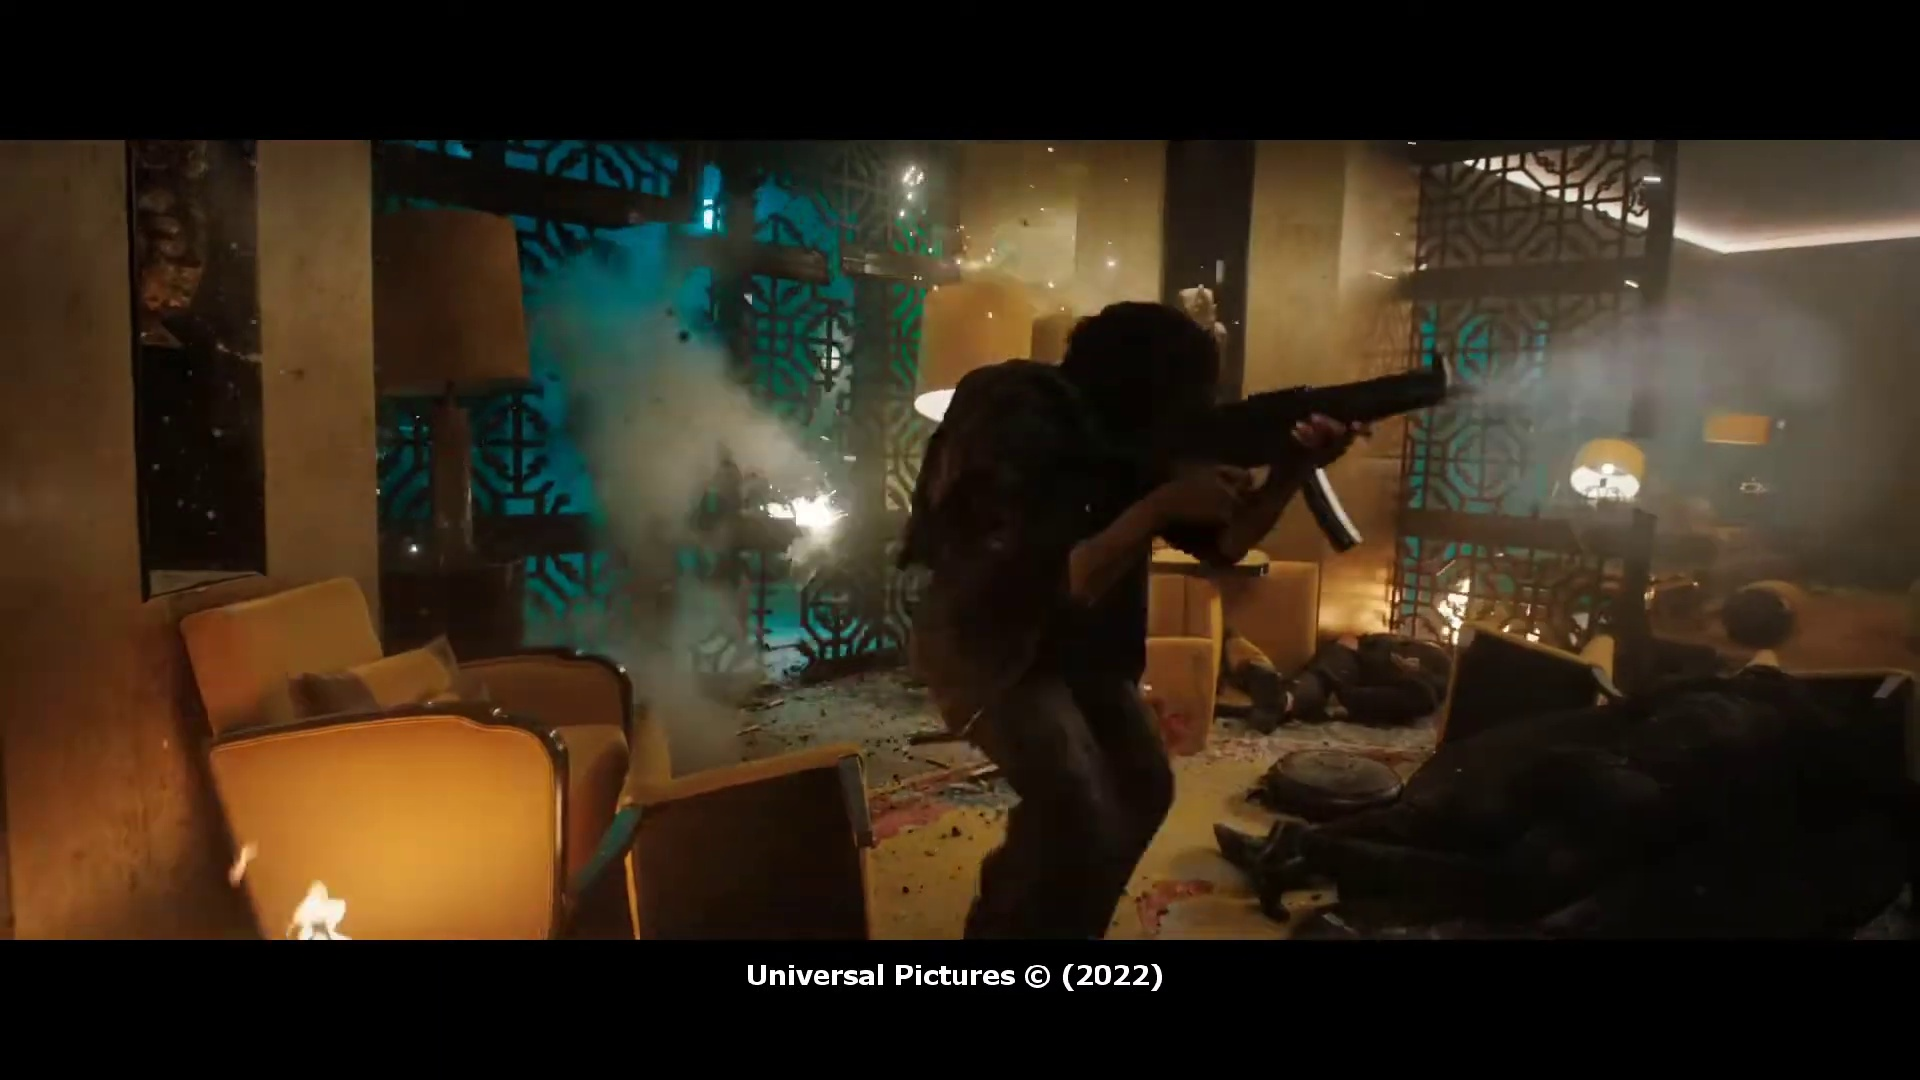gun: (1155, 340, 1457, 554)
p_w_gun: (895, 302, 1458, 945)
